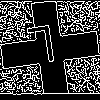L: (25, 25, 59, 74)
